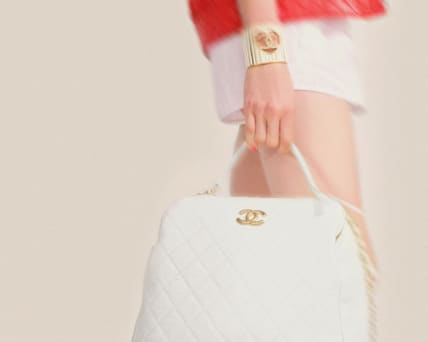channel: (137, 177, 384, 342), (226, 205, 272, 228)
